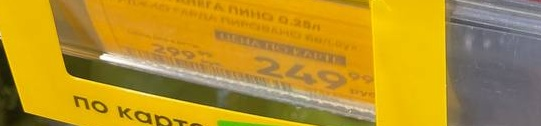1d: (119, 44, 290, 95)
